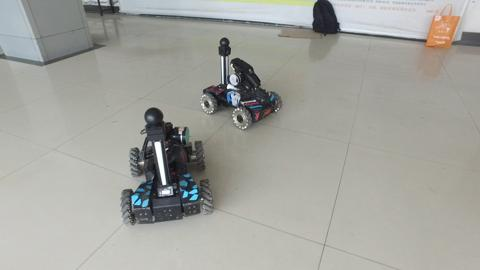chariot: (117, 104, 216, 235), (197, 34, 282, 137)
